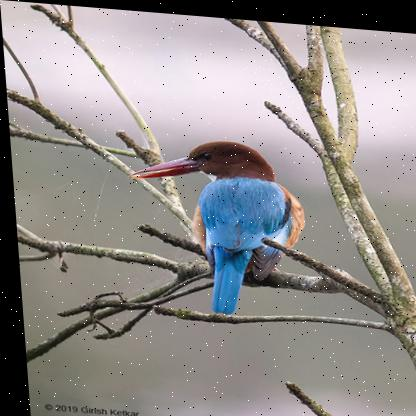Burung: (122, 131, 308, 315)
